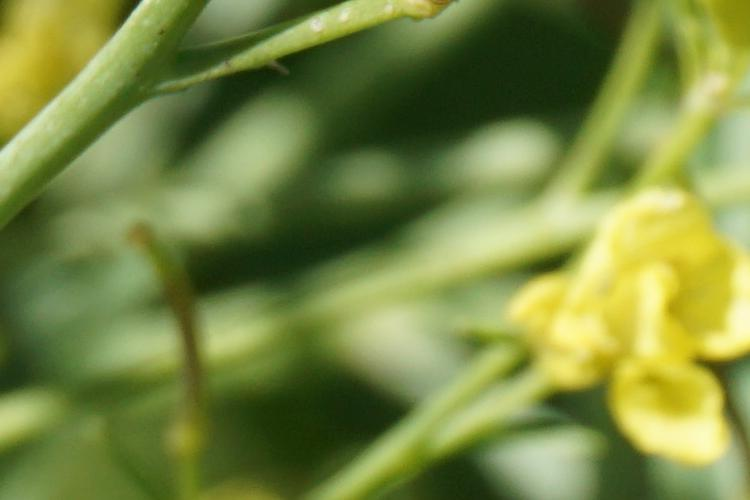pod: (103, 191, 236, 438)
yellow: (532, 183, 750, 465)
